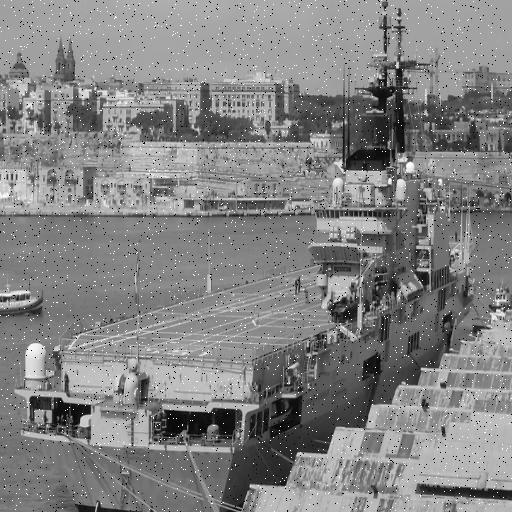Portanaves: (11, 1, 482, 512)
